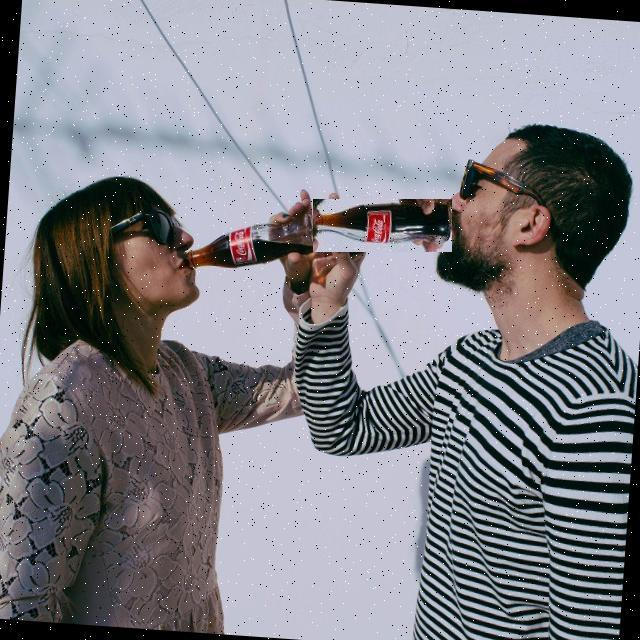coca-cola: (183, 204, 314, 276), (313, 199, 452, 252)
